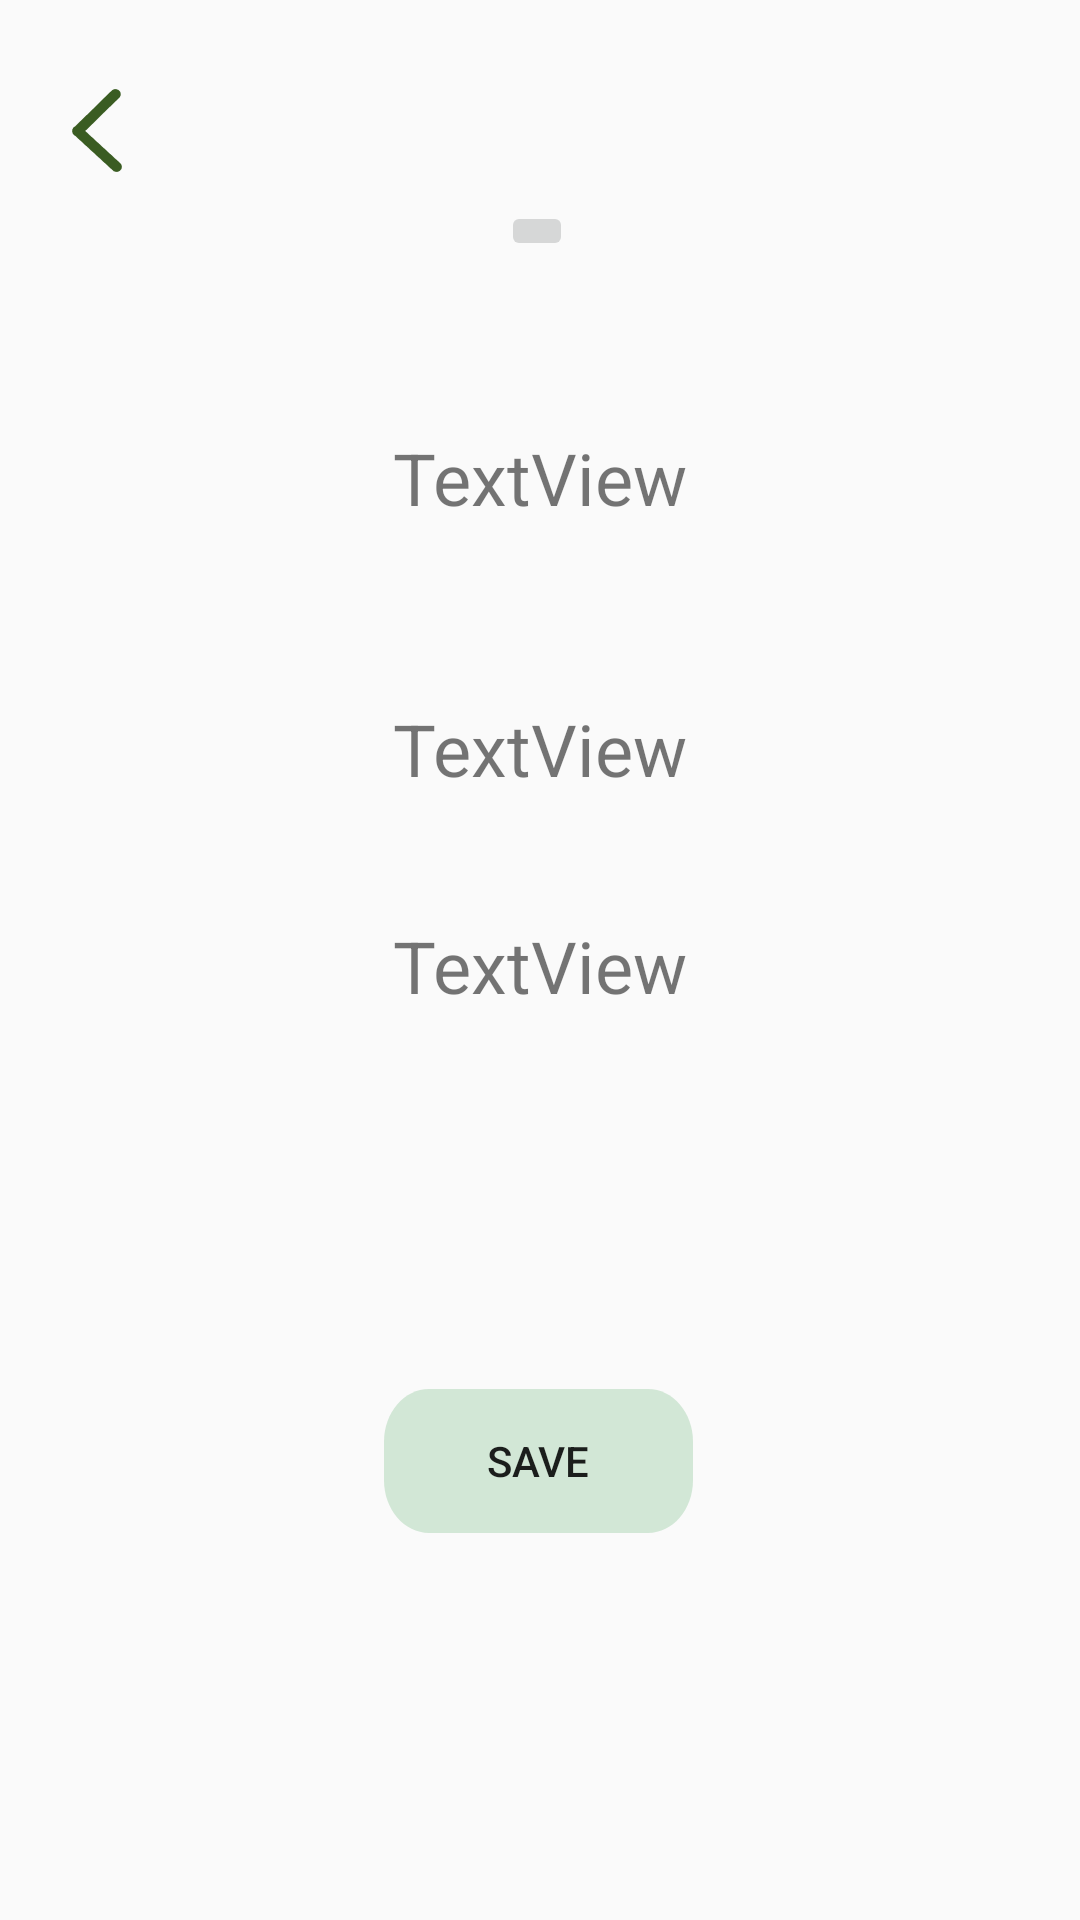

Screen size 1080 × 1920. Icon name, then its center in pixels as [x,y]:
back arrow: [97,130]
